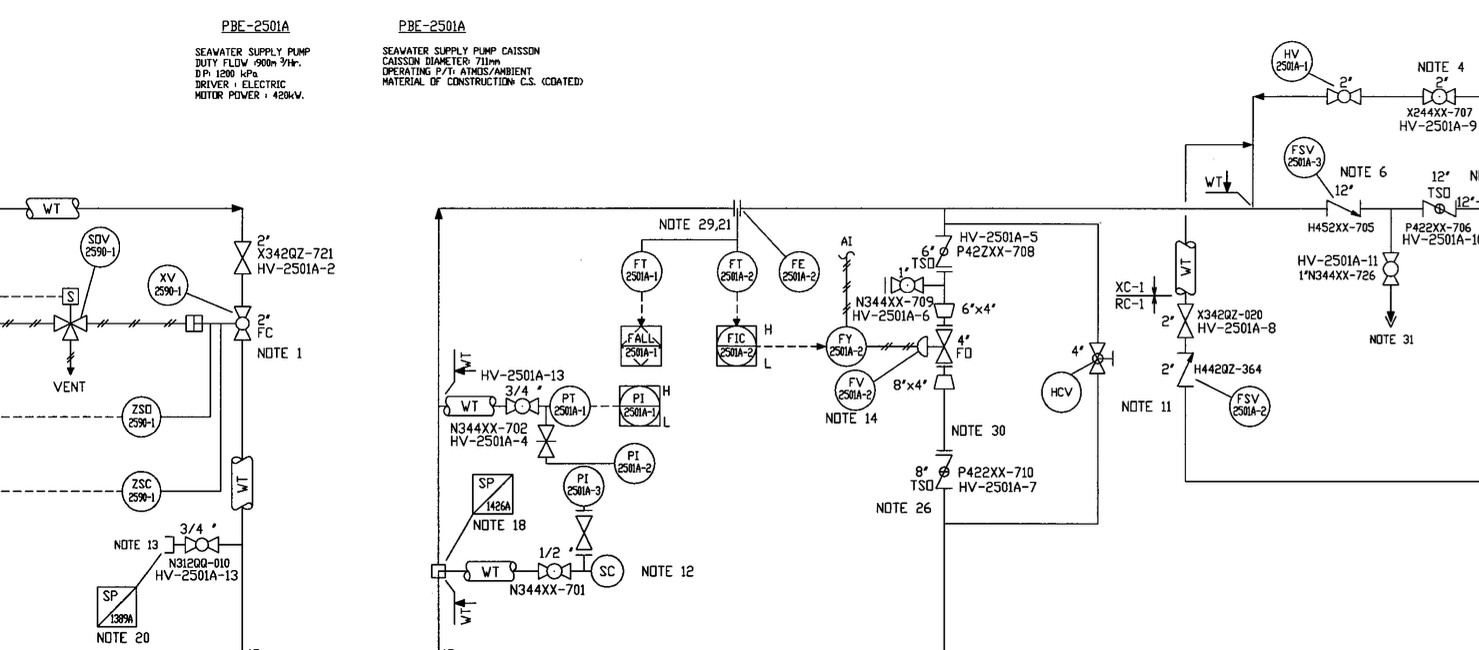Instrument: (1268, 29, 1316, 90), (774, 242, 825, 299), (616, 244, 670, 296), (118, 389, 171, 441), (558, 460, 610, 512), (711, 244, 763, 295), (143, 255, 192, 309), (1226, 380, 1276, 432), (117, 465, 167, 517), (608, 438, 660, 487), (75, 223, 128, 269), (1280, 134, 1328, 183), (831, 366, 879, 414), (822, 320, 869, 369), (546, 383, 596, 429)
Instrument-square: (606, 380, 673, 430), (612, 318, 669, 370), (705, 319, 761, 371)
